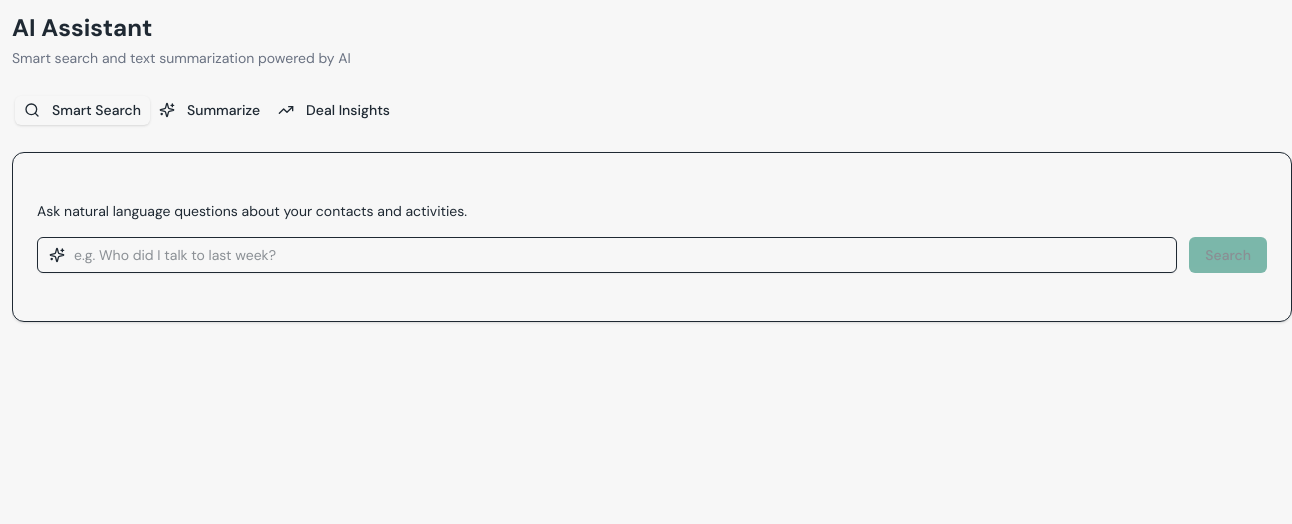
it: AiPanelPage › shows a spinner on the Summarize button while streaming
Click the tab "Summarize". click: (210, 110)
box: [150, 96, 269, 124]
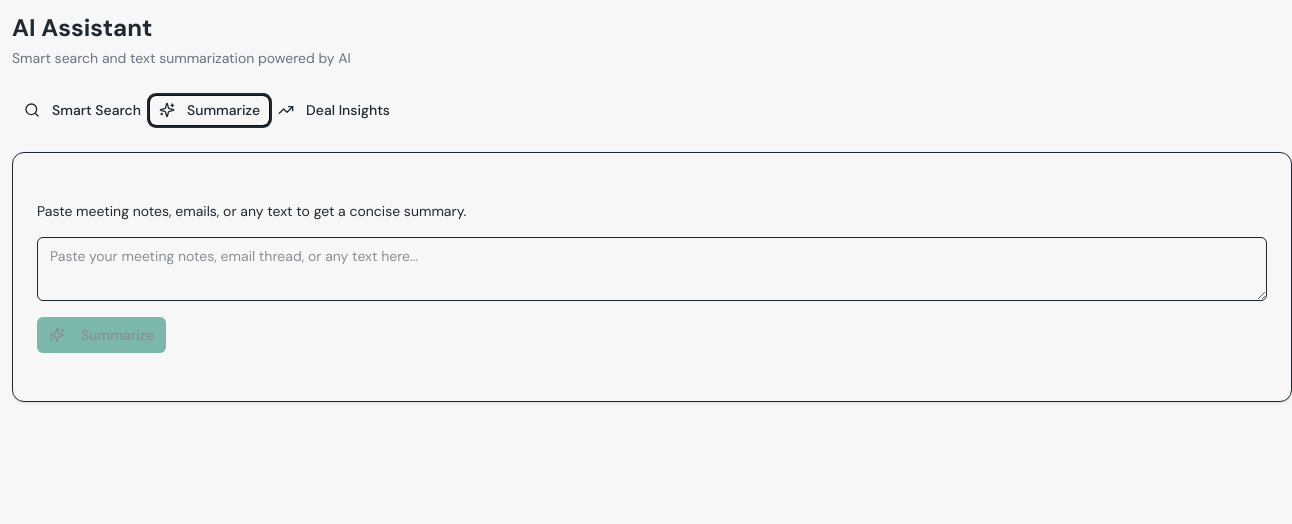
Type "something" into the text box with placeholder "Paste your meeting notes, email thread, or any text here...". click: (652, 269)
box: [37, 237, 1267, 301]
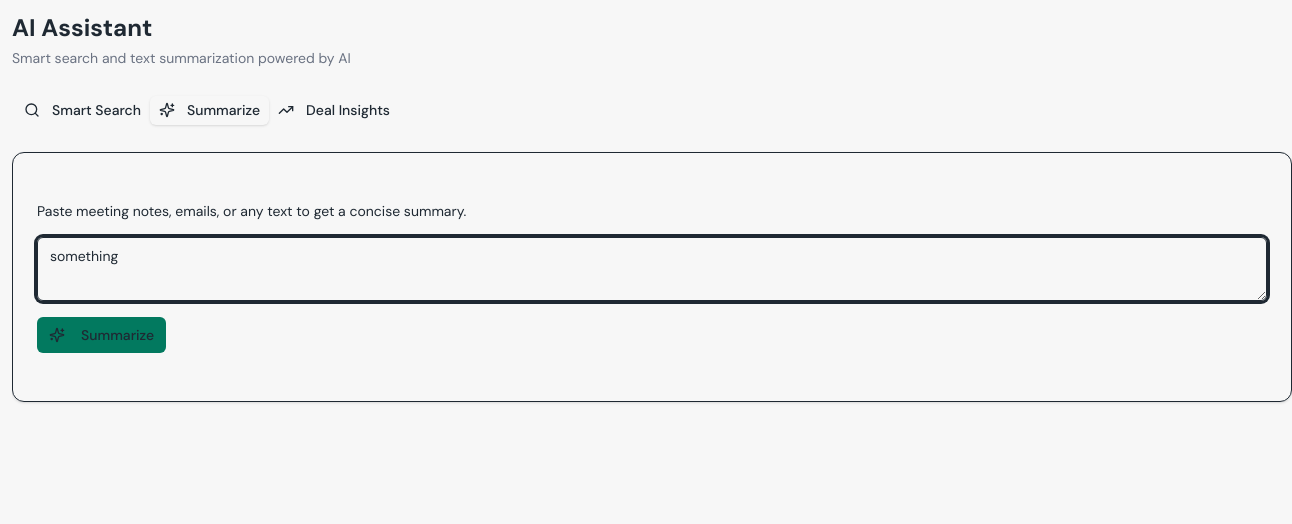
Click the button "Summarize". click: (102, 335)
box: [37, 317, 166, 353]
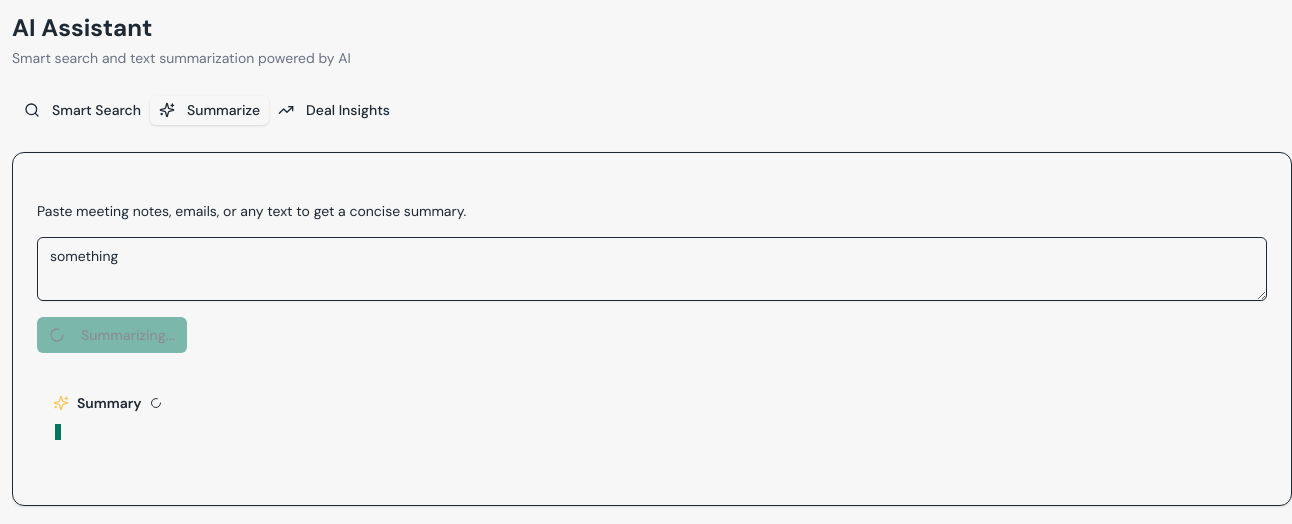
Expected: the 1st icon with class "animate-spin" is shown, [49, 327, 65, 343]
